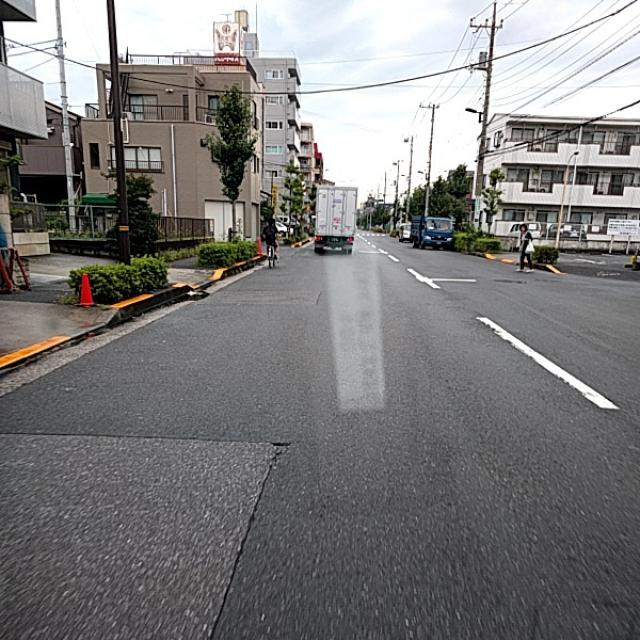pothole: (225, 450, 286, 544)
